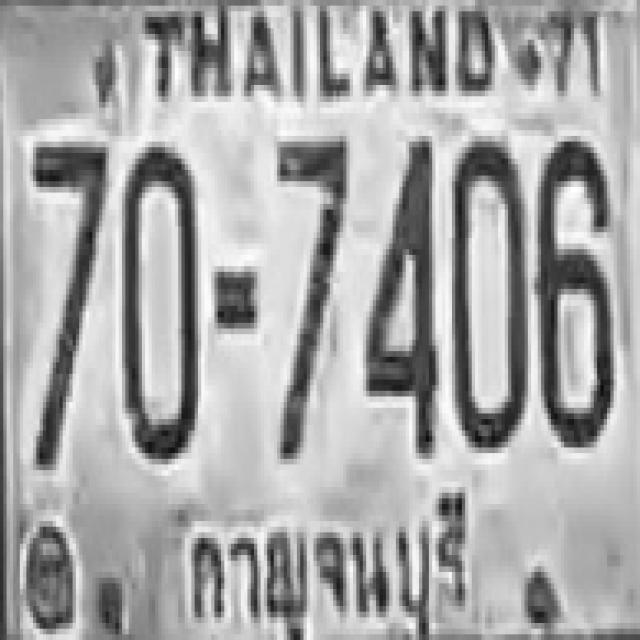0: (119, 139, 198, 456), (448, 136, 524, 447)
4: (363, 128, 435, 450)
6: (534, 136, 610, 442)
7: (30, 133, 106, 462), (274, 133, 346, 450)
KRI: (177, 483, 474, 640)
